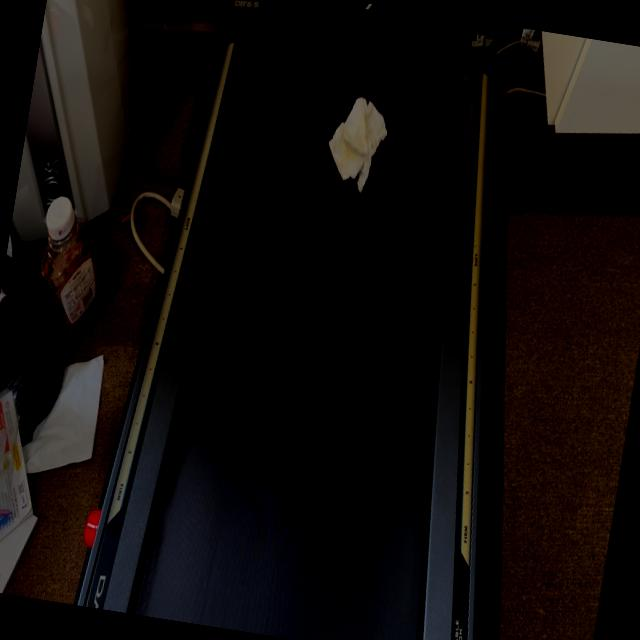Recycle: (320, 88, 394, 198)
